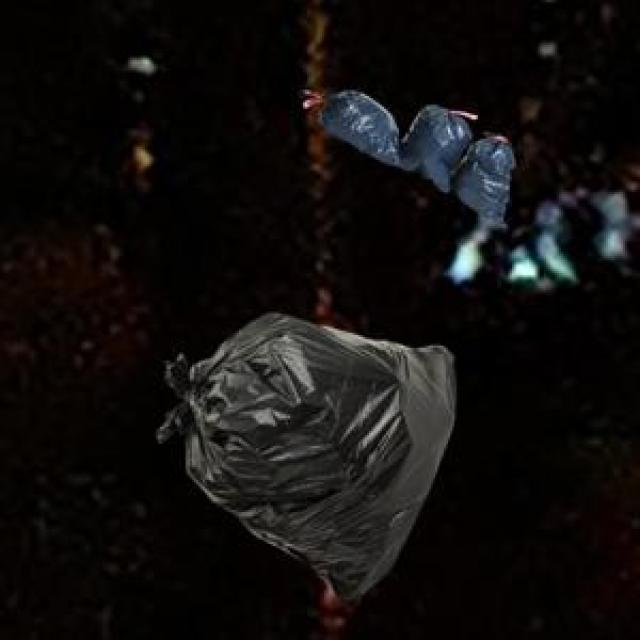waste: (158, 314, 455, 602), (321, 90, 514, 231)
